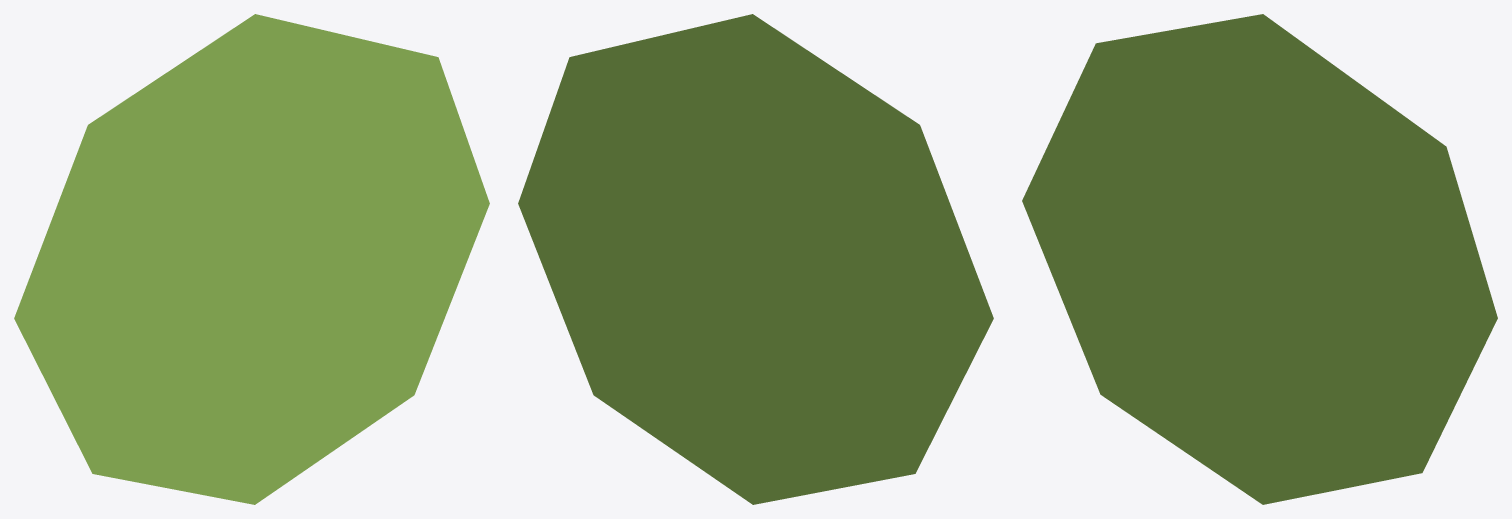
The picture shows the model from 3 angles, left to right: view 1: azimuth 30°, elevation 25°; view 2: azimuth 150°, elevation 25°; view 3: azimuth 330°, elevation 25°; orthographic projection.
Visible parts, largest first — view 1: Base; view 2: Base; view 3: Base.
Boxes of the visible parts, <box> form: Base: <box>14,14,489,504</box>; Base: <box>518,14,993,504</box>; Base: <box>1022,14,1497,504</box>.
Size of the model in its own units: 0.1386 by 0.1366 by 0.
